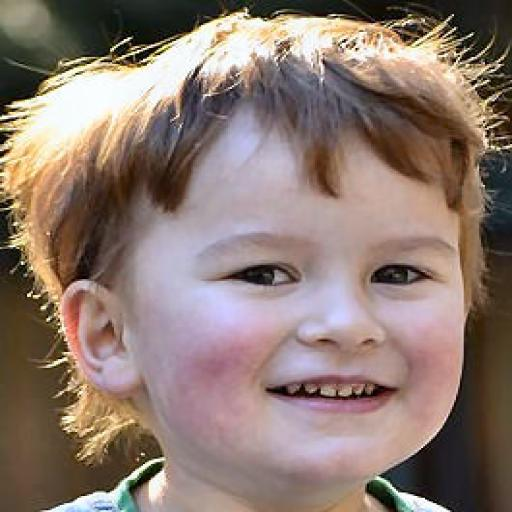Autism: (16, 22, 504, 470)
